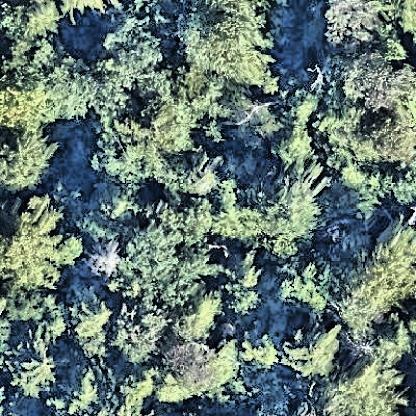tree-top: (174, 1, 278, 90), (326, 230, 415, 326), (1, 193, 81, 293), (1, 40, 94, 126), (302, 351, 409, 416), (340, 236, 416, 324), (247, 161, 326, 236), (282, 314, 357, 378), (99, 11, 164, 78), (306, 2, 399, 48), (275, 86, 326, 166), (334, 51, 402, 110), (154, 331, 224, 387), (1, 124, 53, 198), (344, 166, 416, 219), (97, 124, 159, 185), (218, 252, 271, 322), (353, 109, 416, 167), (122, 218, 186, 275), (145, 96, 201, 160), (112, 295, 166, 360), (70, 296, 117, 364), (276, 259, 330, 318), (8, 287, 71, 336), (15, 336, 68, 394), (163, 158, 225, 207), (13, 1, 68, 42), (236, 329, 282, 377), (88, 238, 122, 281)
